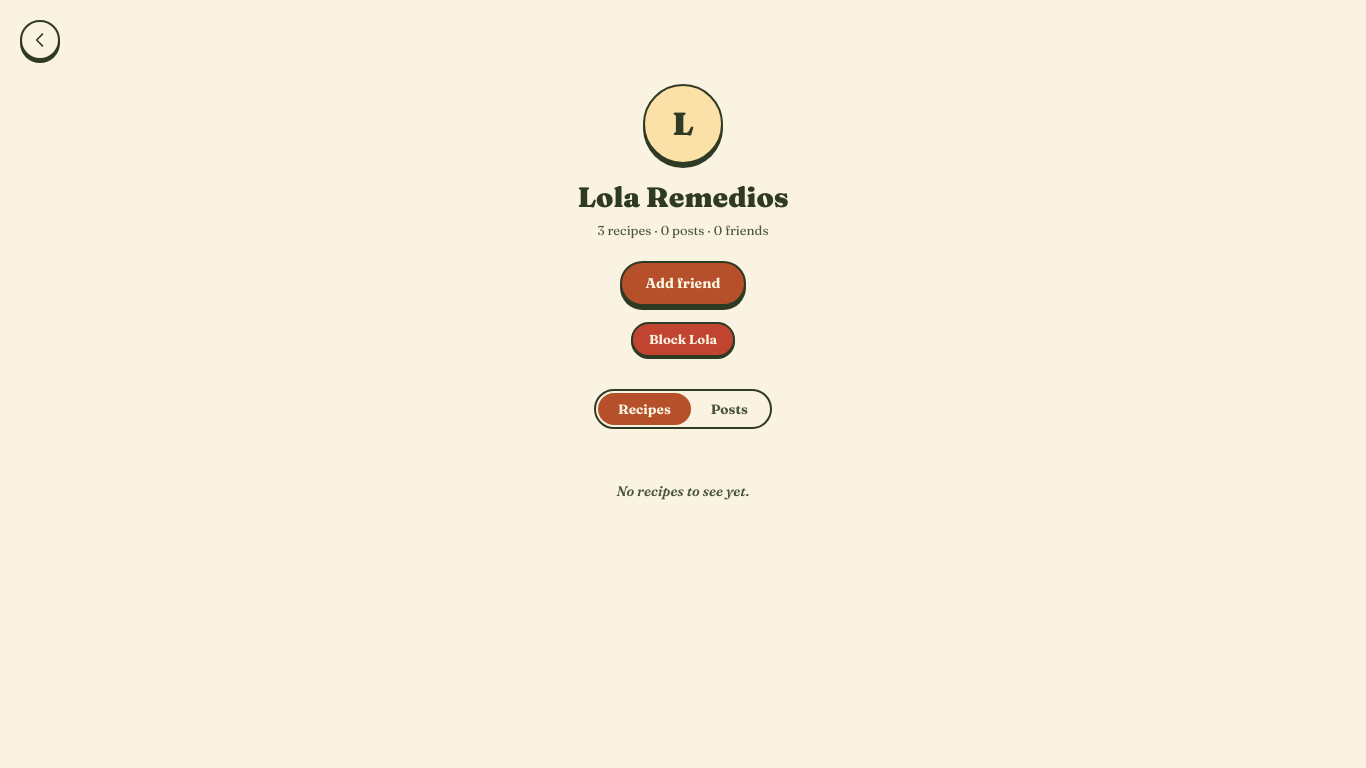
Test case: UserProfile — blocking › stays put and explains when the block fails
The width and height of the screenshot is (1366, 768).
Click the button "Block Lola": (683, 339) [631, 322, 735, 357]
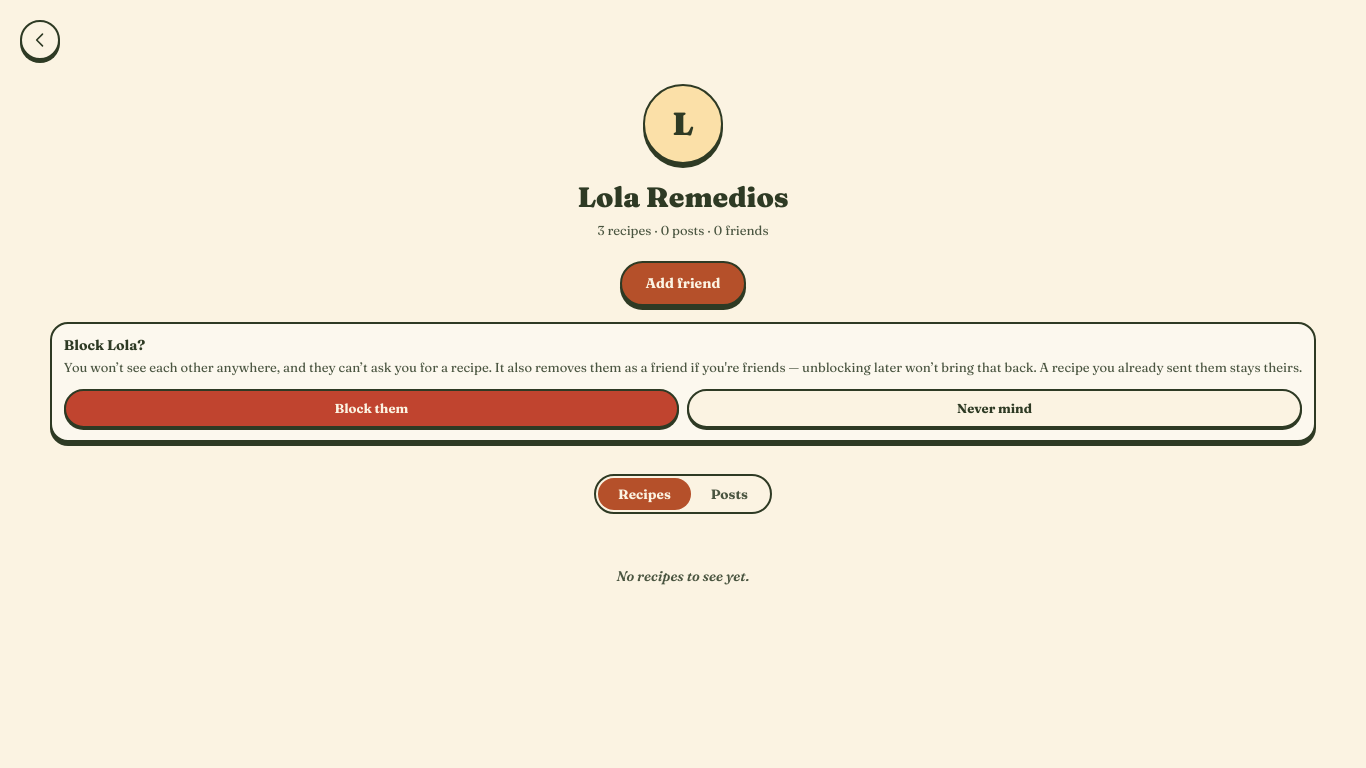
Click the button "Block them": (371, 408) [64, 389, 679, 428]
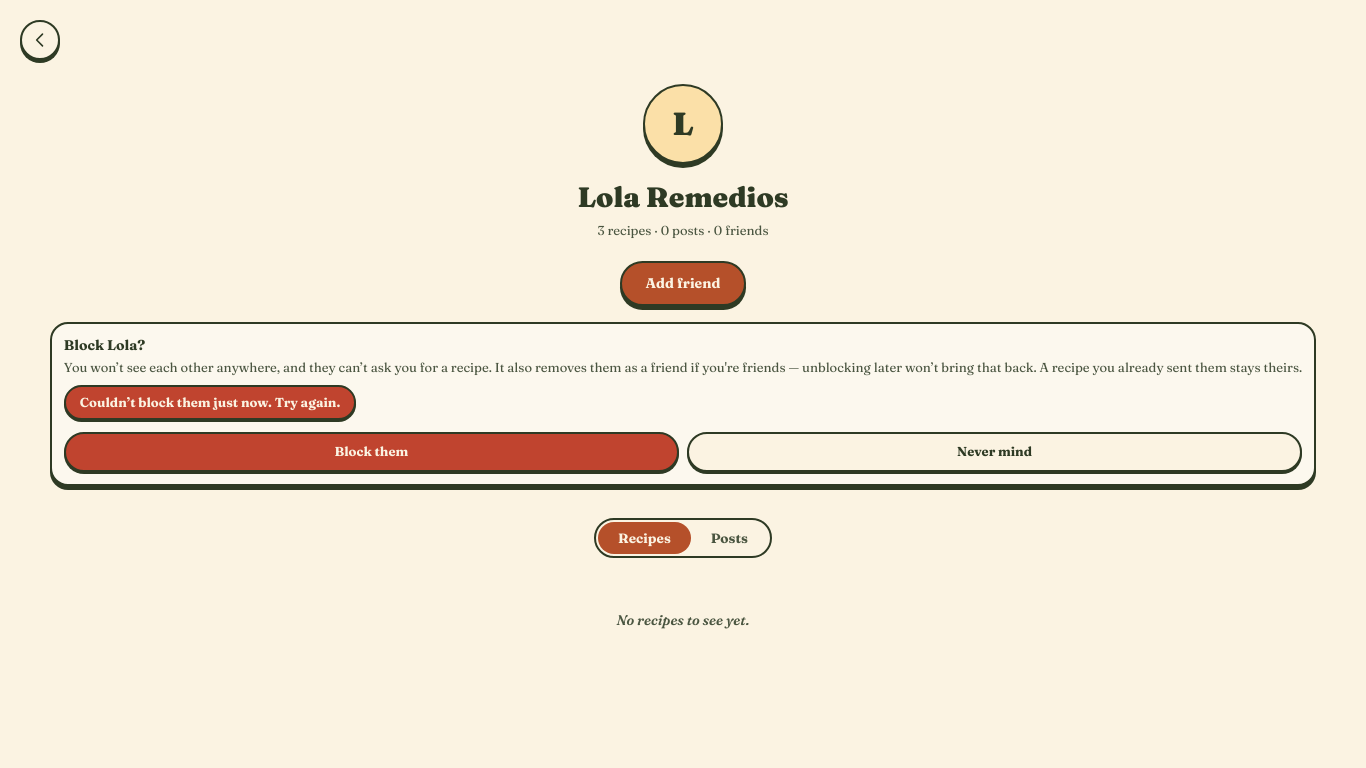
Result: the text "Couldn’t block them just now. Try again." is shown at [64, 385, 356, 420]
